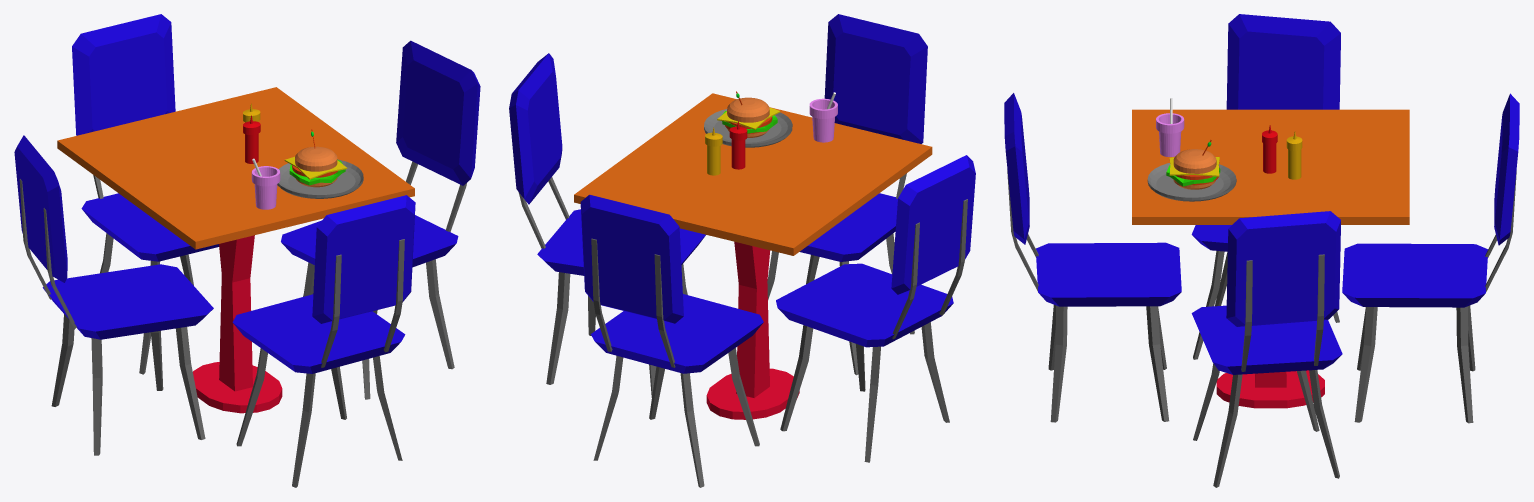
Rendered from mesa_restaurante.fbx.
3 renders of one model, left to right at view 1: azimuth 30°, elevation 25°; view 2: azimuth 150°, elevation 25°; view 3: azimuth 270°, elevation 25°, orthographic.
Visible parts, largest first — view 1: Cubo.001, Cubo.009, Cubo.014, Cubo.022, Cubo.028, Cubo.019, mesa, Cubo.033, Cubo.004, Cubo.027, prato, Cubo.031 (+14 smaller); view 2: Cubo.001, Cubo.014, Cubo.009, Cubo.028, Cubo.033, Cubo.004, mesa, Cubo.022, Cubo.019, Cubo.027, prato, Cubo.026 (+14 smaller); view 3: Cubo.001, Cubo.022, Cubo.033, Cubo.004, Cubo.019, Cubo.027, mesa, Cubo.009, Cubo.014, prato, Cubo.015, Cubo.008 (+12 smaller).
Part boxes in pixels (left/top/right/bottom): Cubo.001: left=57, top=87, right=414, bottom=249; Cubo.009: left=72, top=14, right=175, bottom=135; Cubo.014: left=312, top=195, right=415, bottom=323; Cubo.022: left=396, top=40, right=480, bottom=185; Cubo.028: left=42, top=264, right=213, bottom=339; Cubo.019: left=232, top=294, right=405, bottom=373; mesa: left=193, top=235, right=282, bottom=413; Cubo.033: left=14, top=135, right=67, bottom=282; Cubo.004: left=81, top=193, right=219, bottom=261; Cubo.027: left=281, top=215, right=458, bottom=267; prato: left=277, top=159, right=363, bottom=198; Cubo.031: left=175, top=327, right=205, bottom=439; Cubo.001: left=574, top=93, right=932, bottom=255; Cubo.014: left=824, top=14, right=927, bottom=143; Cubo.009: left=580, top=194, right=683, bottom=323; Cubo.028: left=776, top=263, right=953, bottom=347; Cubo.033: left=891, top=155, right=975, bottom=294; Cubo.004: left=591, top=294, right=763, bottom=373; mesa: left=706, top=241, right=799, bottom=419; Cubo.022: left=509, top=53, right=562, bottom=204; Cubo.019: left=799, top=193, right=897, bottom=261; Cubo.027: left=537, top=209, right=705, bottom=275; prato: left=704, top=109, right=792, bottom=147; Cubo.026: left=546, top=272, right=570, bottom=384; Cubo.001: left=1132, top=109, right=1409, bottom=224; Cubo.022: left=1226, top=211, right=1340, bottom=326; Cubo.033: left=1226, top=14, right=1340, bottom=109; Cubo.004: left=1342, top=243, right=1487, bottom=307; Cubo.019: left=1036, top=242, right=1181, bottom=306; Cubo.027: left=1191, top=305, right=1342, bottom=374; mesa: left=1216, top=370, right=1324, bottom=408; Cubo.009: left=1494, top=93, right=1519, bottom=245; Cubo.014: left=1004, top=93, right=1029, bottom=244; prato: left=1147, top=163, right=1236, bottom=201; Cubo.015: left=1050, top=305, right=1067, bottom=422; Cubo.008: left=1456, top=306, right=1473, bottom=423.
Size of the model in its own units: 367 by 229 by 377.
